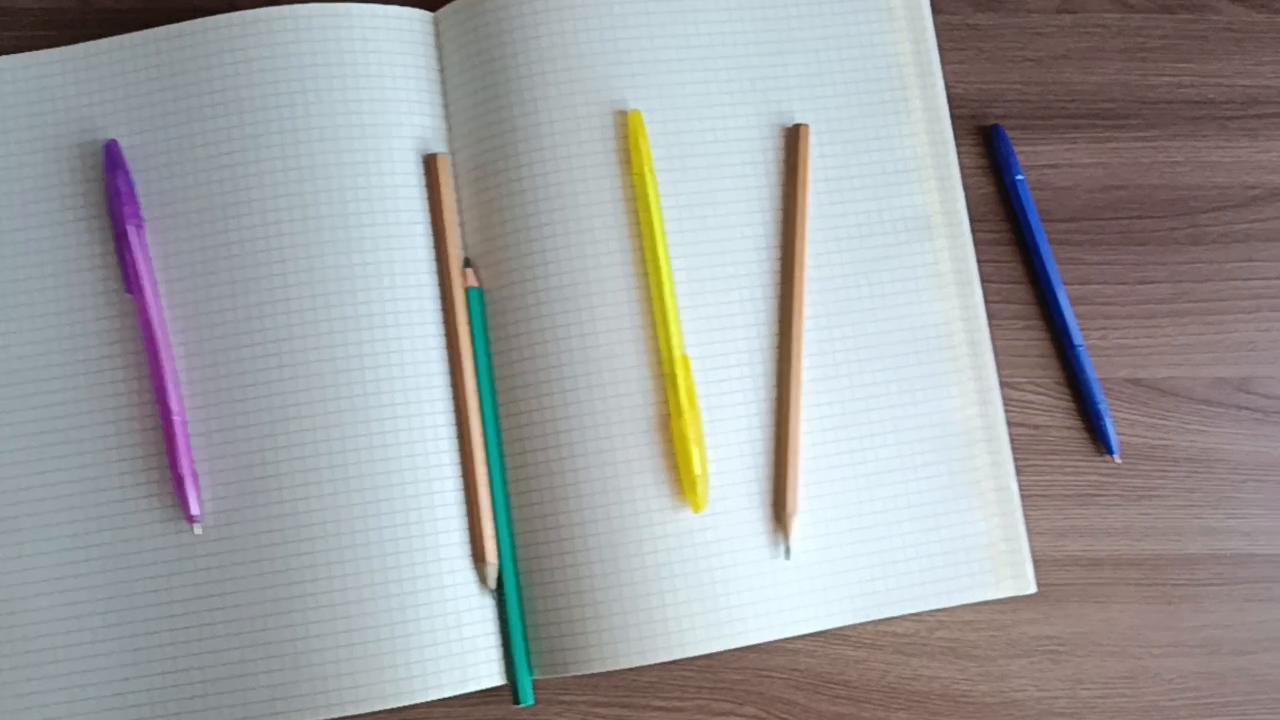pen: (977, 117, 1130, 471), (89, 129, 209, 545), (620, 103, 714, 516)
pencil: (417, 143, 501, 600), (466, 252, 540, 720), (773, 112, 817, 560)
